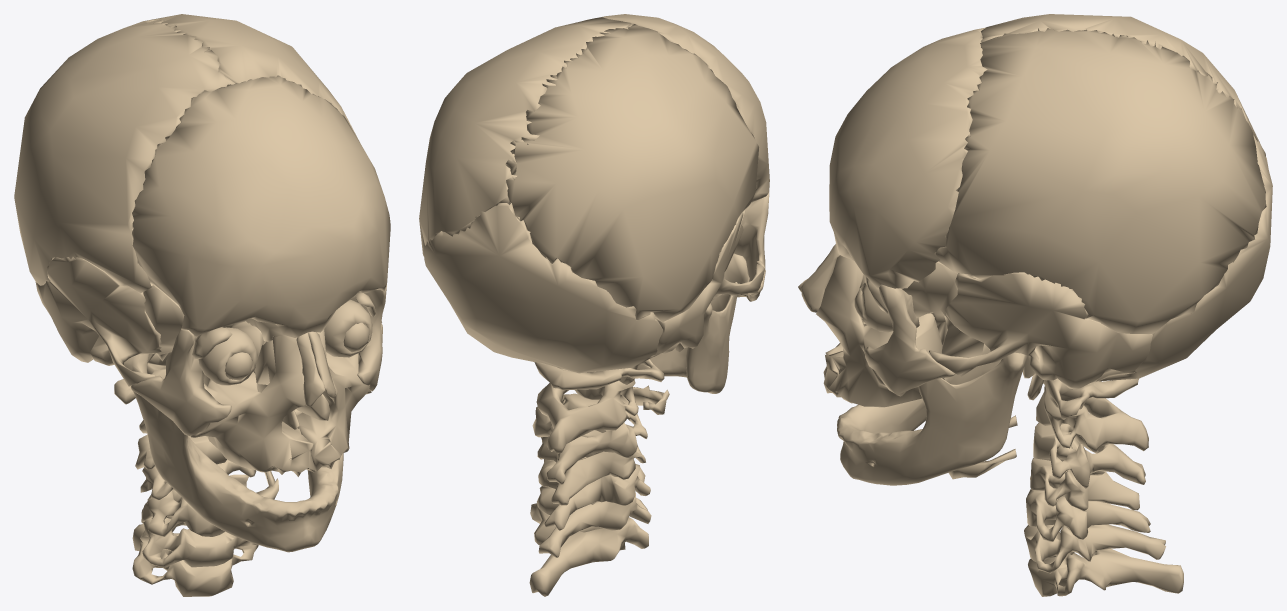
Rendered from head.glb.
3 views of the same model, side by side, from view 1: azimuth 30°, elevation 25°; view 2: azimuth 150°, elevation 25°; view 3: azimuth 270°, elevation 25° (orthographic). The views are drawn at different scales.
Visible parts, largest first — view 1: frontal, parietal, maxilla, mandible, cervical, skull, temporal, zygomatic, nasal; view 2: parietal, skull, cervical, frontal, mandible, temporal, zygomatic, maxilla; view 3: parietal, frontal, cervical, mandible, temporal, skull, maxilla, zygomatic, nasal.
Part boxes in pixels (left/top/right/bottom): frontal: left=132, top=75, right=390, bottom=341; parietal: left=14, top=14, right=358, bottom=293; maxilla: left=190, top=329, right=371, bottom=476; mandible: left=124, top=353, right=343, bottom=552; cervical: left=114, top=363, right=258, bottom=596; skull: left=132, top=227, right=375, bottom=499; temporal: left=35, top=257, right=381, bottom=386; zygomatic: left=131, top=284, right=386, bottom=436; nasal: left=296, top=331, right=335, bottom=406; parietal: left=419, top=17, right=758, bottom=322; skull: left=423, top=202, right=751, bottom=414; cervical: left=529, top=359, right=664, bottom=596; frontal: left=584, top=14, right=769, bottom=202; mandible: left=637, top=282, right=737, bottom=393; temporal: left=653, top=208, right=764, bottom=355; zygomatic: left=734, top=191, right=769, bottom=301; maxilla: left=710, top=253, right=751, bottom=311; parietal: left=936, top=14, right=1266, bottom=333; frontal: left=829, top=27, right=987, bottom=289; cervical: left=1024, top=378, right=1183, bottom=596; mandible: left=837, top=344, right=1027, bottom=485; temporal: left=928, top=272, right=1152, bottom=400; skull: left=854, top=135, right=1272, bottom=479; maxilla: left=816, top=255, right=942, bottom=407; zygomatic: left=865, top=284, right=954, bottom=396; nasal: left=798, top=244, right=839, bottom=312.
Size of the model in its own units: 0.151 by 0.2715 by 0.2085.
